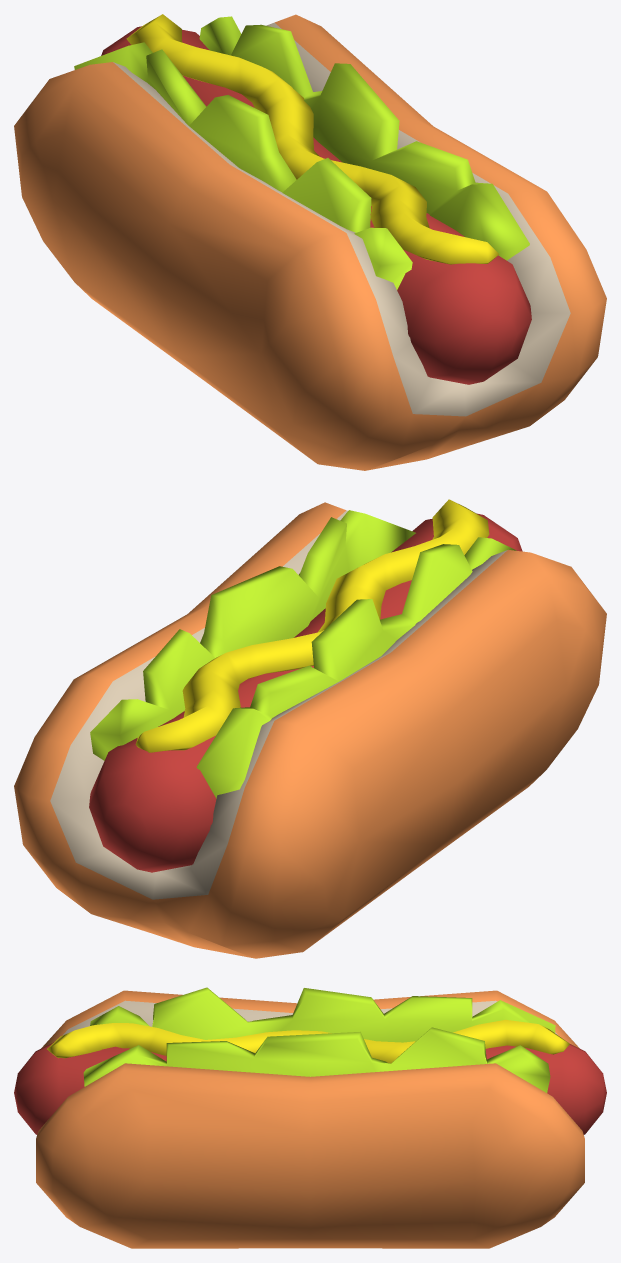
The model's file is Hotdog_geo.fbx.
3 renders of one model, top to bottom at view 1: azimuth 30°, elevation 25°; view 2: azimuth 150°, elevation 25°; view 3: azimuth 270°, elevation 25°, orthographic. The views are drawn at different scales.
Visible parts, largest first — view 1: Hotdog_geo; view 2: Hotdog_geo; view 3: Hotdog_geo.
Boxes of the visible parts, x1,y1,x2,y2 form: Hotdog_geo: [14, 14, 606, 470]; Hotdog_geo: [14, 499, 606, 958]; Hotdog_geo: [14, 987, 606, 1248].
Size of the model in its own units: 0.3823 by 0.8083 by 0.3277.
